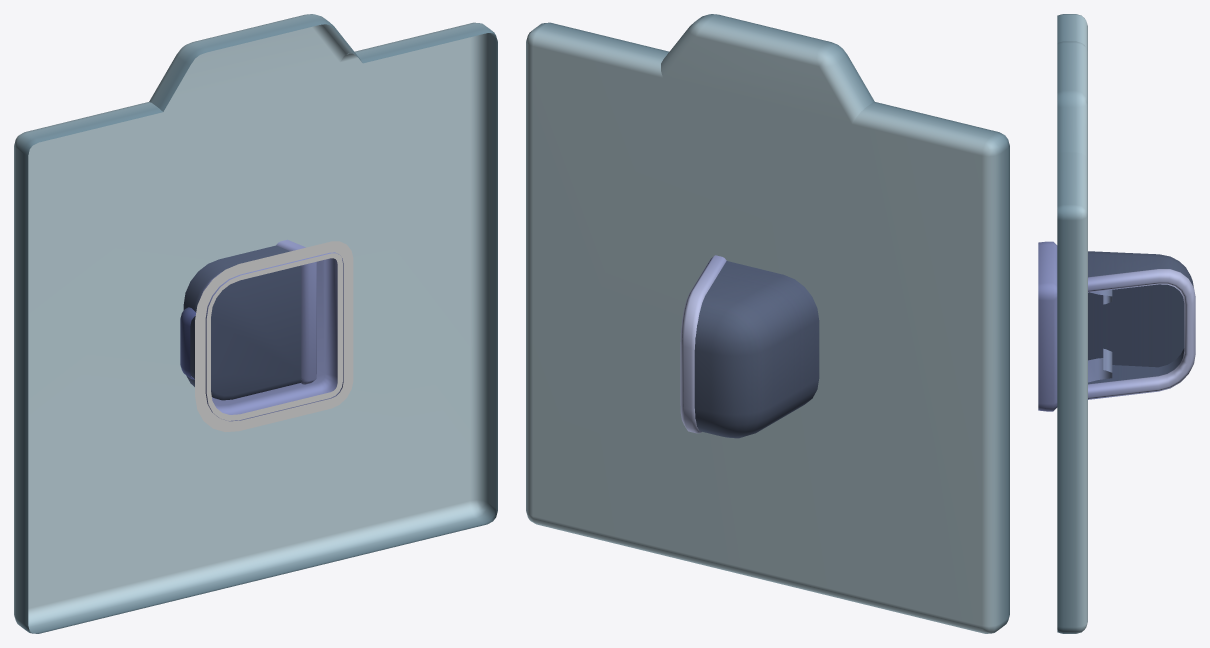
File: Belt.fbx
The picture shows the model from 3 angles, left to right: view 1: azimuth 30°, elevation 25°; view 2: azimuth 150°, elevation 25°; view 3: azimuth 270°, elevation 25°; orthographic projection. The views are drawn at different scales.
Parts seen in each view (by area): view 1: Screen, Belt, Screen_02; view 2: Screen, Belt; view 3: Screen, Belt, Conveyor Belt.
Part boxes in pixels (<box>): Screen: <box>14,14,497,633</box>; Belt: <box>183,239,353,432</box>; Screen_02: <box>180,307,195,379</box>; Screen: <box>526,14,1009,633</box>; Belt: <box>680,255,819,438</box>; Screen: <box>1057,14,1087,633</box>; Belt: <box>1038,241,1195,411</box>; Conveyor Belt: <box>1088,290,1112,382</box>.
Size of the model in its own units: 12 by 13.2 by 4.
